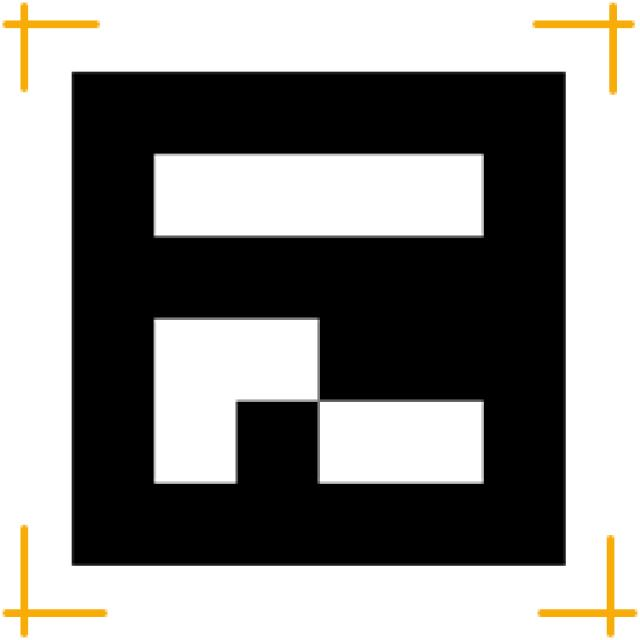aruco: (36, 15, 617, 588)
